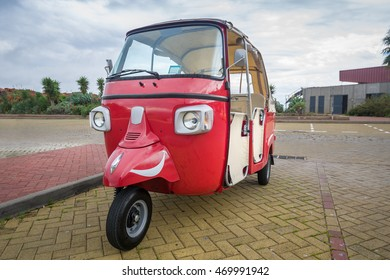threewheel: (88, 17, 276, 251)
